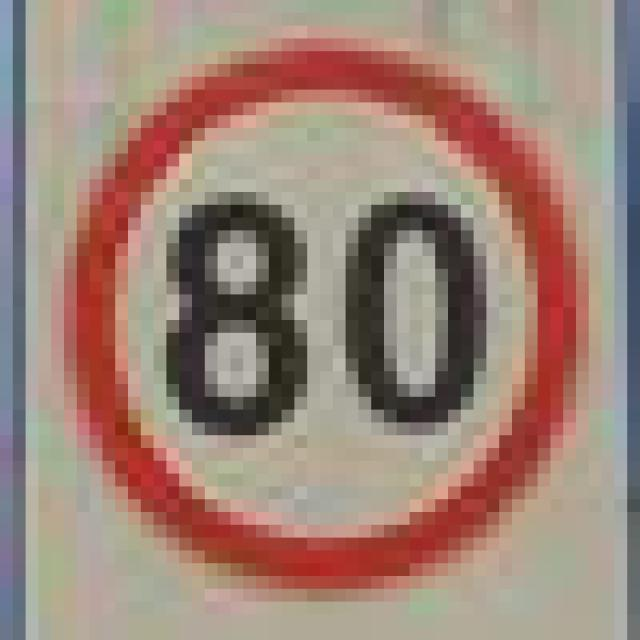speed_limit_50: (64, 38, 576, 576)
